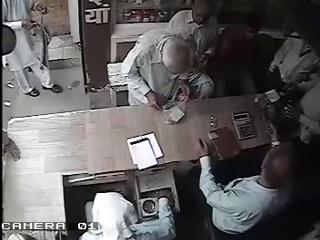Normal: (198, 138, 296, 240), (122, 27, 214, 110), (2, 0, 60, 98)
